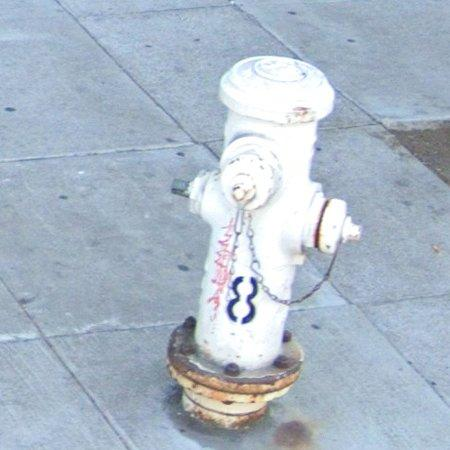a fire hydrant: (168, 57, 362, 430)
